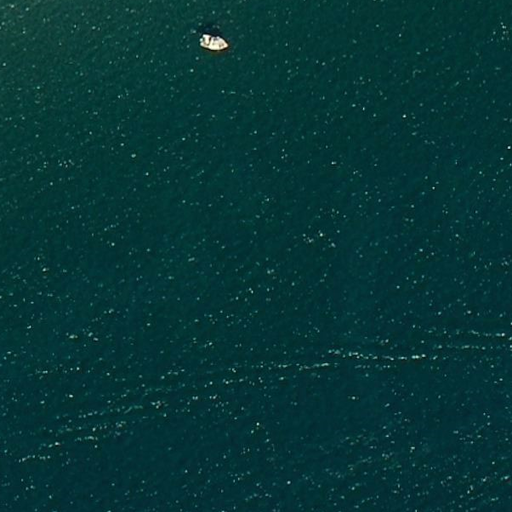ship: (197, 31, 229, 54)
